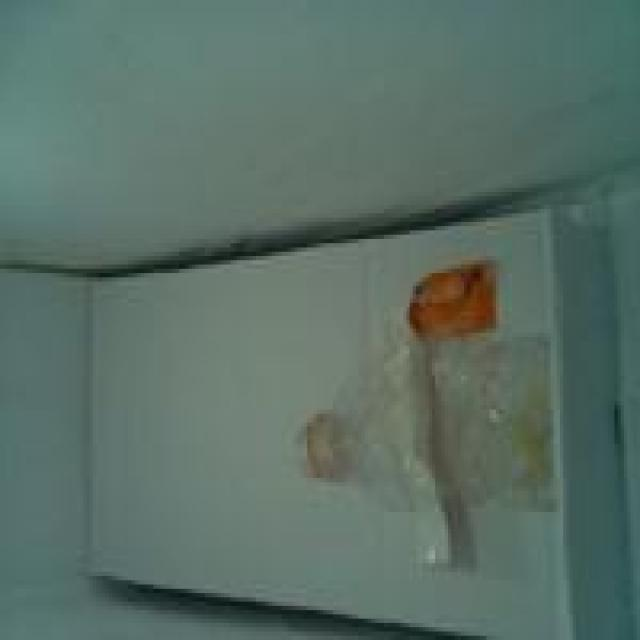bottle: (272, 244, 582, 580)
